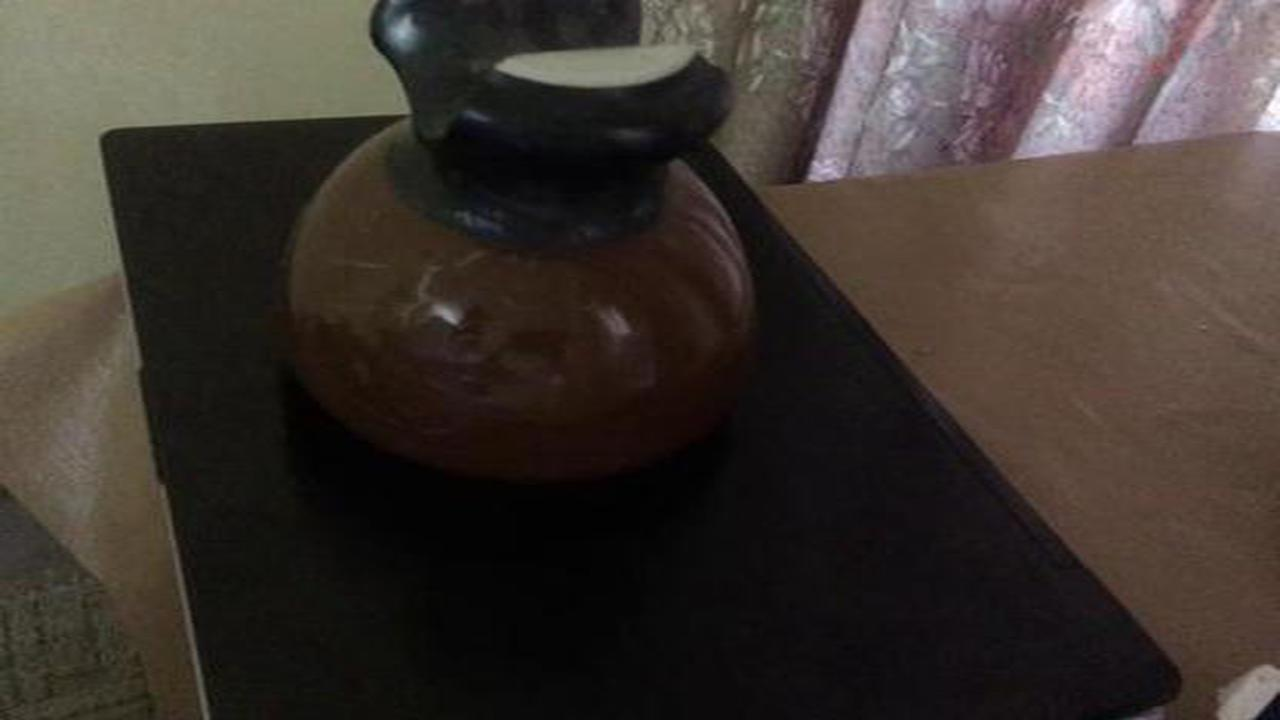insulator_pin: (250, 7, 761, 496)
